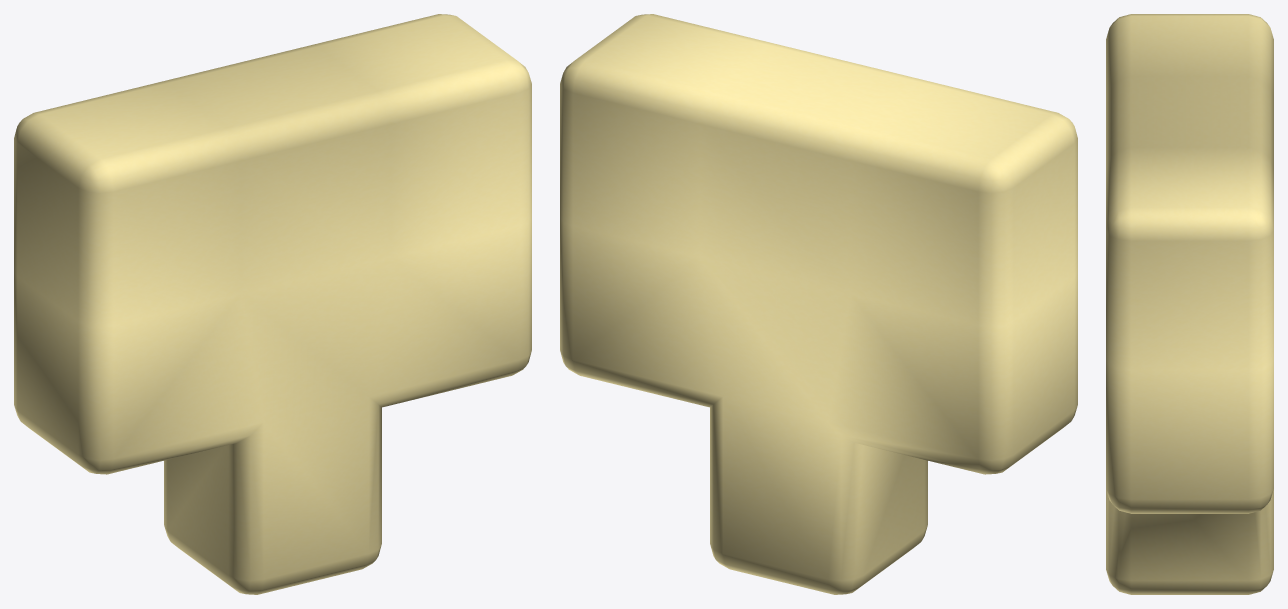
Rendered from __clay_block_09_39.obj.
3 renders of one model, left to right at view 1: azimuth 30°, elevation 25°; view 2: azimuth 150°, elevation 25°; view 3: azimuth 270°, elevation 25°, orthographic. The views are drawn at different scales.
Visible parts, largest first — view 1: clay_block_39; view 2: clay_block_39; view 3: clay_block_39.
Part boxes in pixels (x1,y1,x2,y2): clay_block_39: [14, 14, 531, 594]; clay_block_39: [560, 14, 1077, 594]; clay_block_39: [1106, 14, 1273, 594].
Size of the model in its own units: 3 by 3 by 1.
1 material, 1 textured.
